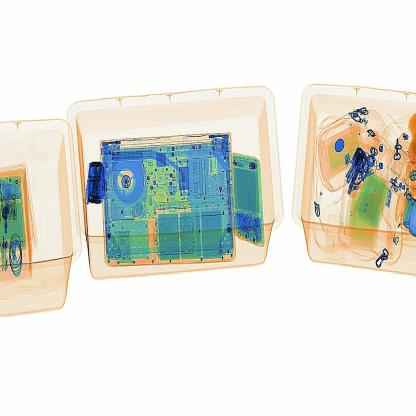scissors: (82, 155, 114, 214)
